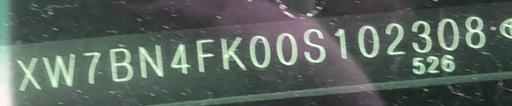letter: (41, 53, 79, 87), (134, 43, 164, 81), (300, 26, 328, 63), (165, 41, 193, 77), (220, 33, 246, 71), (436, 13, 462, 50), (106, 48, 134, 82), (14, 56, 40, 91), (464, 13, 488, 50), (383, 19, 407, 55), (192, 36, 216, 72), (409, 17, 433, 52), (356, 23, 380, 58), (248, 34, 272, 68), (329, 24, 351, 60), (276, 30, 298, 66), (80, 50, 104, 82)
